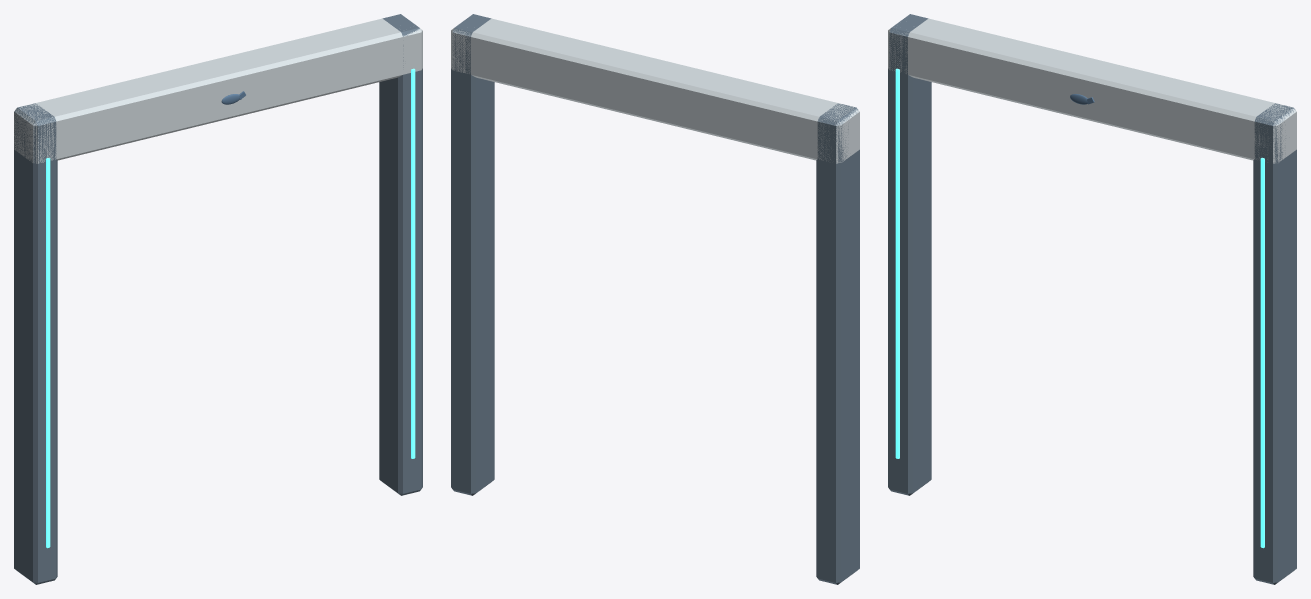
File: mall_06.glb
3 renders of one model, left to right at view 1: azimuth 30°, elevation 25°; view 2: azimuth 150°, elevation 25°; view 3: azimuth 330°, elevation 25°, orthographic.
Visible parts, largest first — view 1: StorePortal (×2), StoreHeader, PortalLED (×2); view 2: StorePortal (×2), StoreHeader; view 3: StorePortal (×2), StoreHeader, PortalLED (×2).
Part boxes in pixels (x1=…): StorePortal (×2): x1=14, y1=14, x2=422, y2=584; StoreHeader: x1=14, y1=18, x2=422, y2=163; PortalLED (×2): x1=46, y1=68, x2=415, y2=548; StorePortal (×2): x1=451, y1=14, x2=859, y2=584; StoreHeader: x1=451, y1=18, x2=859, y2=163; StorePortal (×2): x1=888, y1=14, x2=1296, y2=584; StoreHeader: x1=888, y1=18, x2=1296, y2=163; PortalLED (×2): x1=895, y1=68, x2=1264, y2=548.
Size of the model in its own units: 2.2 by 2.5 by 0.243.
